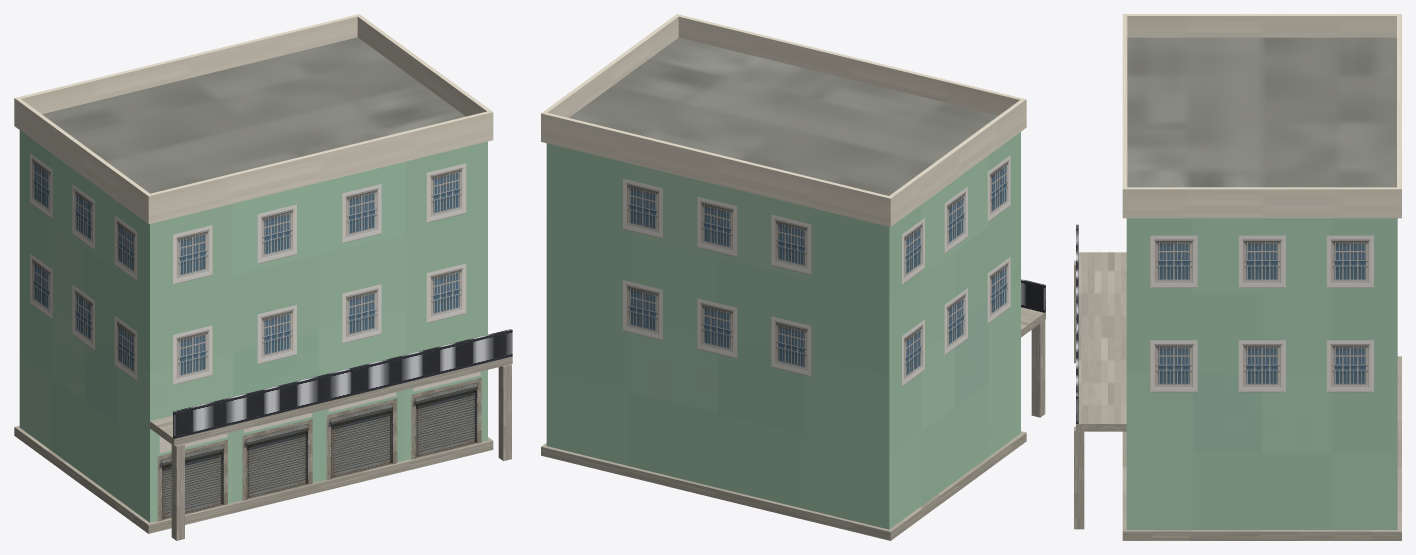
Rendered from shops-mint-far.glb.
The picture shows the model from 3 angles, left to right: view 1: azimuth 30°, elevation 25°; view 2: azimuth 150°, elevation 25°; view 3: azimuth 270°, elevation 25°; orthographic projection. The views are drawn at different scales.
Visible parts, largest first — view 1: shops-mint-far; view 2: shops-mint-far; view 3: shops-mint-far.
Boxes of the visible parts, <box> form: shops-mint-far: <box>14,14,512,540</box>; shops-mint-far: <box>541,14,1045,540</box>; shops-mint-far: <box>1074,14,1401,540</box>.
Bounding box in the file's own units: 12.24 × 11.45 × 9.67.
Materials: 1 (1 with a texture image).
